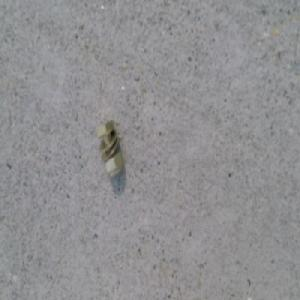BoltNutSet: (95, 117, 123, 177)
